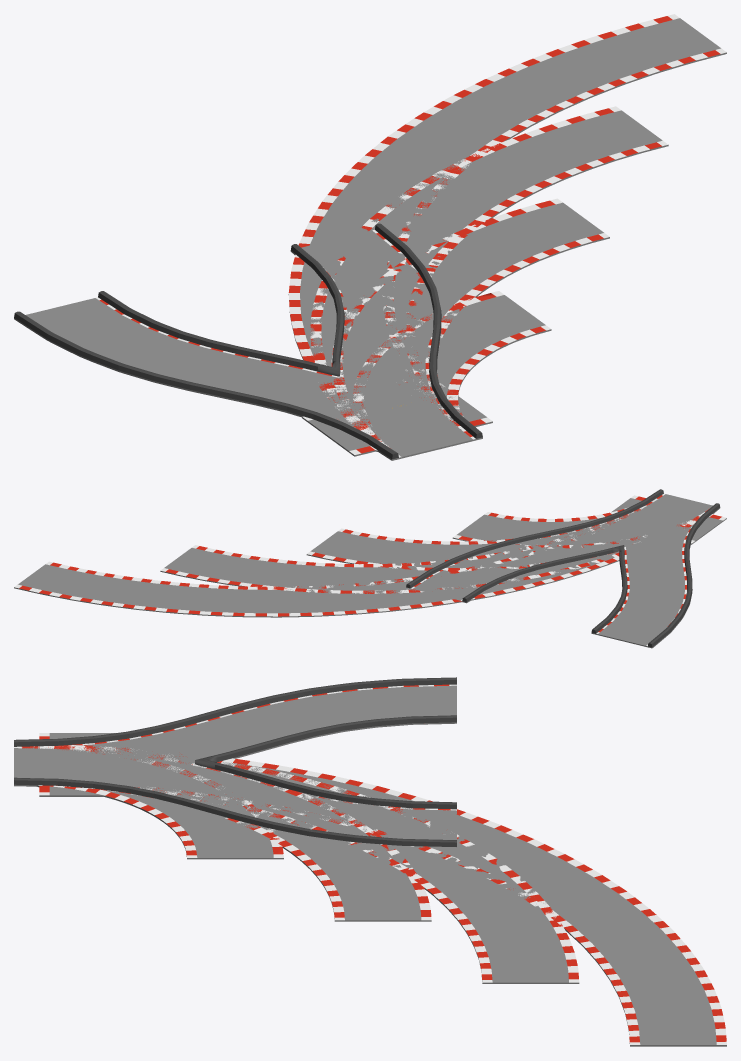
File: borderlessroads.glb
The picture shows the model from 3 angles, top to bottom: view 1: azimuth 30°, elevation 25°; view 2: azimuth 150°, elevation 25°; view 3: azimuth 270°, elevation 25°; orthographic projection. The views are drawn at different scales.
Parts seen in each view (by area): view 1: BorderlessTurnLong3, BorderlessTurnLong2, BorderlessTurnLong, BorderlessTurnSFork, TurnSFork, BorderlessTurnShort, BorderlessIntersectionCross, BorderlessIntersectionT; view 2: BorderlessTurnLong3, BorderlessTurnLong2, BorderlessTurnLong, BorderlessTurnSFork, TurnSFork, BorderlessTurnShort, BorderlessIntersectionCross, BorderlessIntersectionT; view 3: BorderlessTurnLong3, BorderlessTurnLong2, BorderlessTurnLong, TurnSFork, BorderlessTurnSFork, BorderlessTurnShort, BorderlessIntersectionCross, BorderlessTurnSRight.
Boxes of the visible parts, x1=… form: BorderlessTurnLong3: x1=288, y1=14, x2=726, y2=460; BorderlessTurnLong2: x1=310, y1=106, x2=668, y2=460; BorderlessTurnLong: x1=331, y1=198, x2=609, y2=459; BorderlessTurnSFork: x1=26, y1=297, x2=474, y2=460; TurnSFork: x1=14, y1=223, x2=482, y2=459; BorderlessTurnShort: x1=353, y1=291, x2=551, y2=457; BorderlessIntersectionCross: x1=302, y1=383, x2=492, y2=456; BorderlessIntersectionT: x1=309, y1=384, x2=490, y2=454; BorderlessTurnLong3: x1=14, y1=499, x2=710, y2=617; BorderlessTurnLong2: x1=160, y1=495, x2=711, y2=593; BorderlessTurnLong: x1=306, y1=494, x2=712, y2=571; BorderlessTurnSFork: x1=596, y1=493, x2=720, y2=646; TurnSFork: x1=406, y1=489, x2=719, y2=648; BorderlessTurnShort: x1=452, y1=494, x2=712, y2=548; BorderlessIntersectionCross: x1=612, y1=495, x2=726, y2=543; BorderlessIntersectionT: x1=611, y1=496, x2=724, y2=544; BorderlessTurnLong3: x1=14, y1=745, x2=726, y2=1046; BorderlessTurnLong2: x1=14, y1=745, x2=579, y2=983; BorderlessTurnLong: x1=14, y1=745, x2=431, y2=921; TurnSFork: x1=14, y1=677, x2=456, y2=846; BorderlessTurnSFork: x1=14, y1=684, x2=456, y2=777; BorderlessTurnShort: x1=14, y1=746, x2=283, y2=859; BorderlessIntersectionCross: x1=38, y1=733, x2=115, y2=796; BorderlessTurnSRight: x1=14, y1=776, x2=456, y2=836.
Bounding box in the file's own units: 117 × 0.9427 × 96.57.
